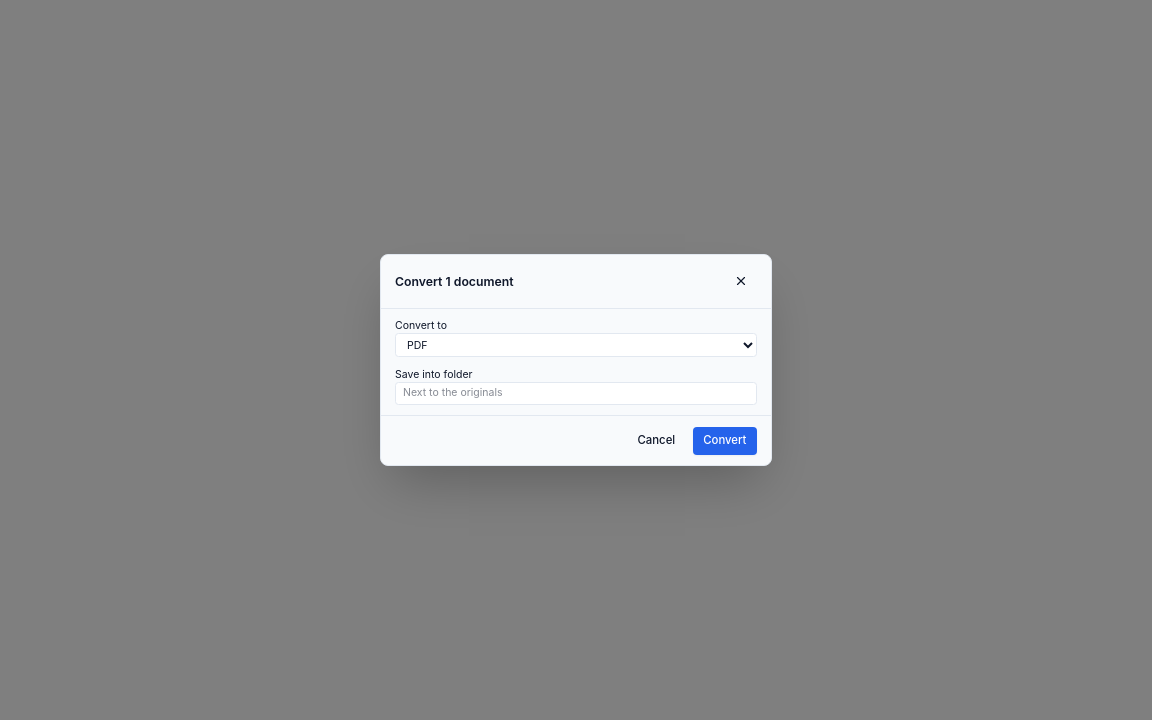
Test: ConvertDialog › converts documents and shows per-file errors
This screenshot has width=1152, height=720.
Select "ODT" in the dropdown labelled "Convert to" at (576, 345), box [395,333,757,357]
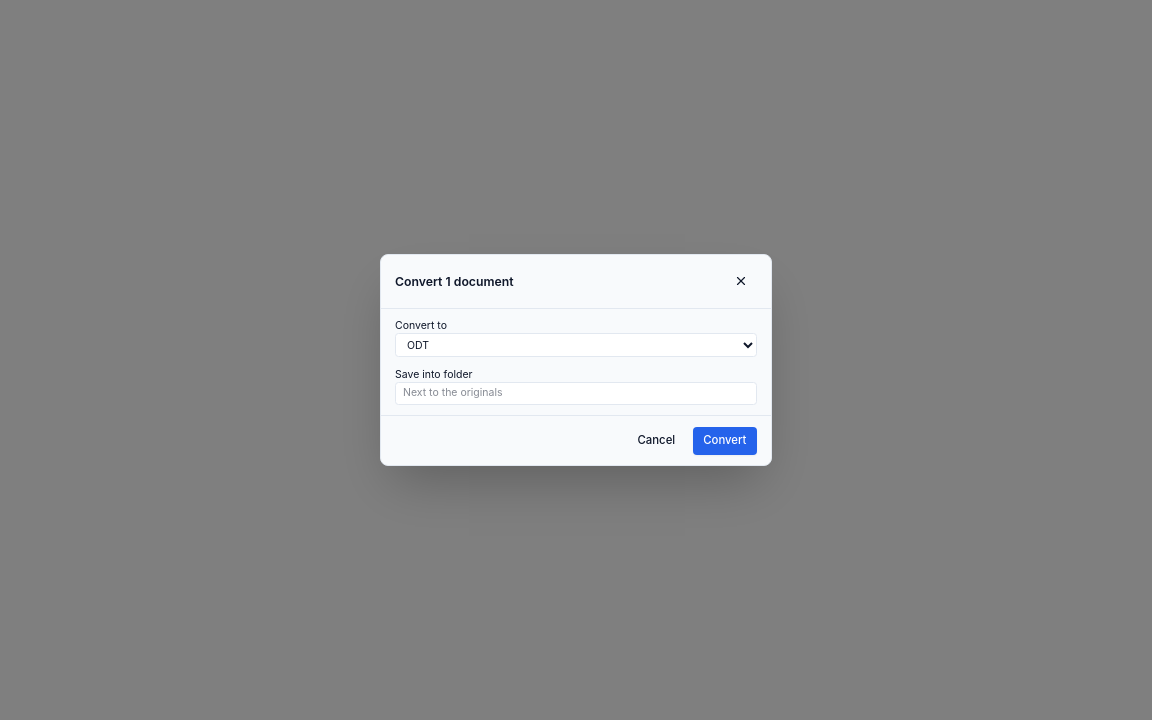
Type "/out" into the field labelled "Save into folder" at (576, 393), box [395,382,757,404]
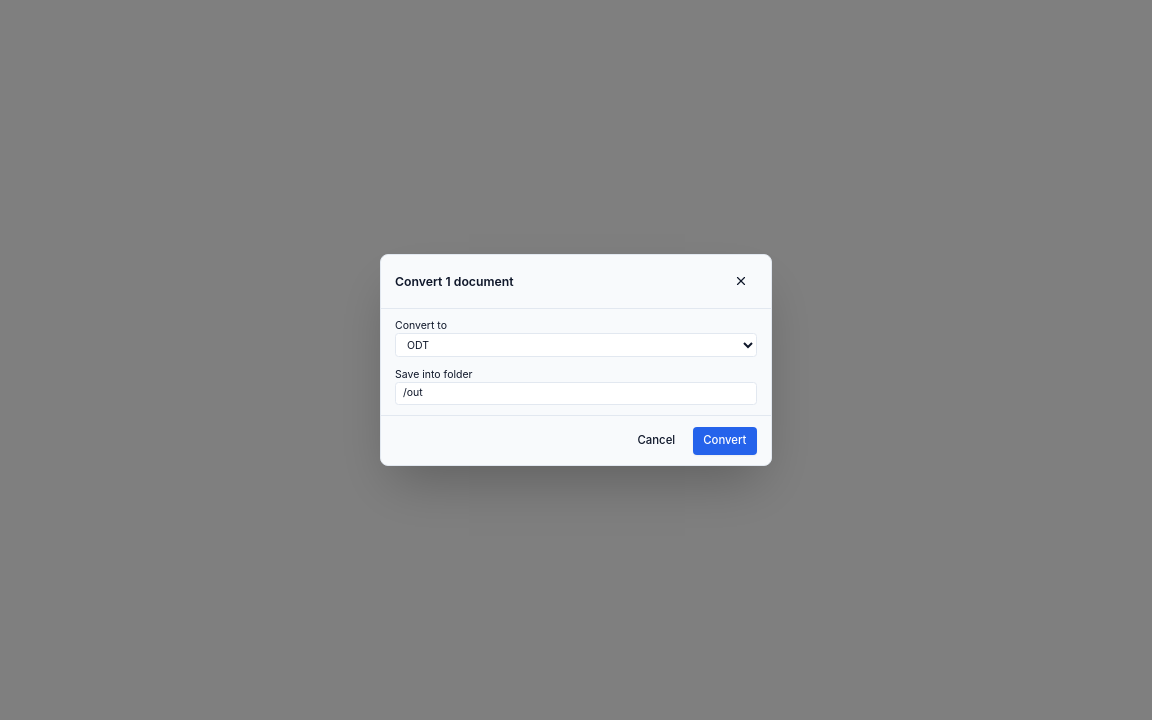
Click the button "Convert" at (725, 440), box [693,426,757,454]
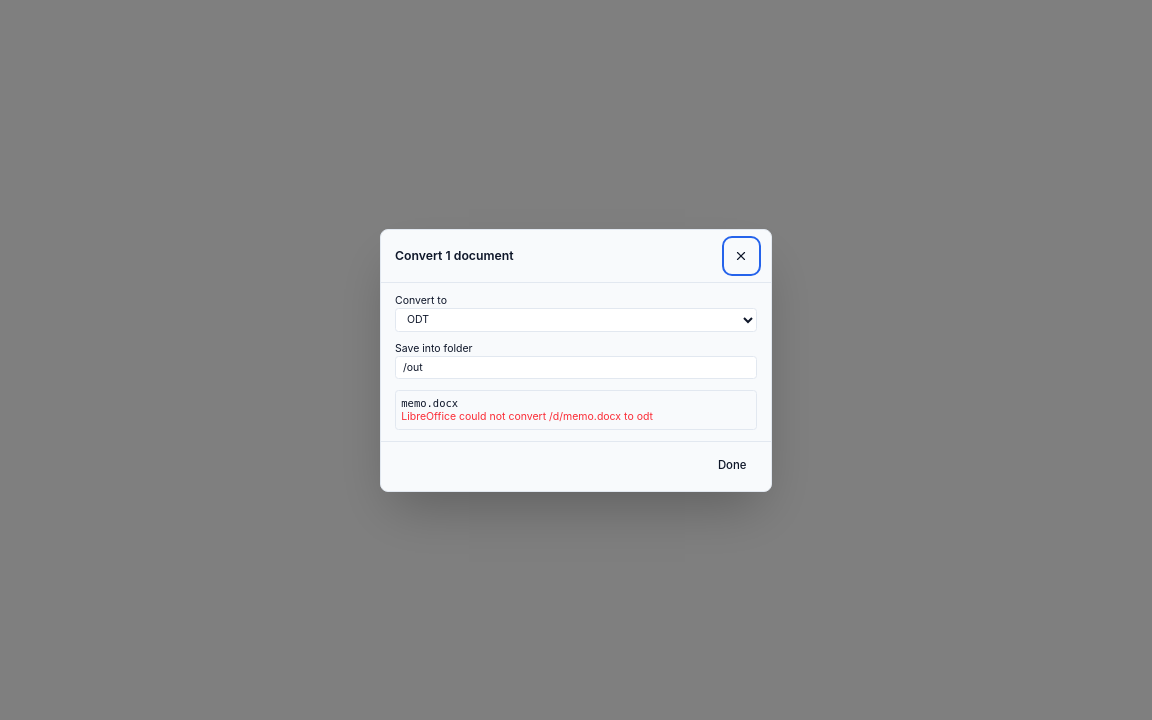
Expected: the text "LibreOffice could not convert /d/memo.docx to odt" is shown, [401,410,653,423]
